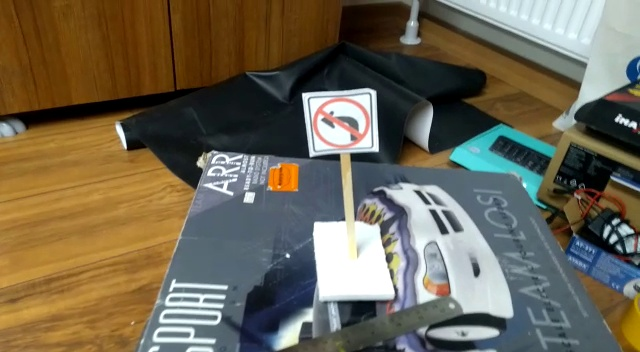sola_donulmez: (310, 98, 373, 147)
